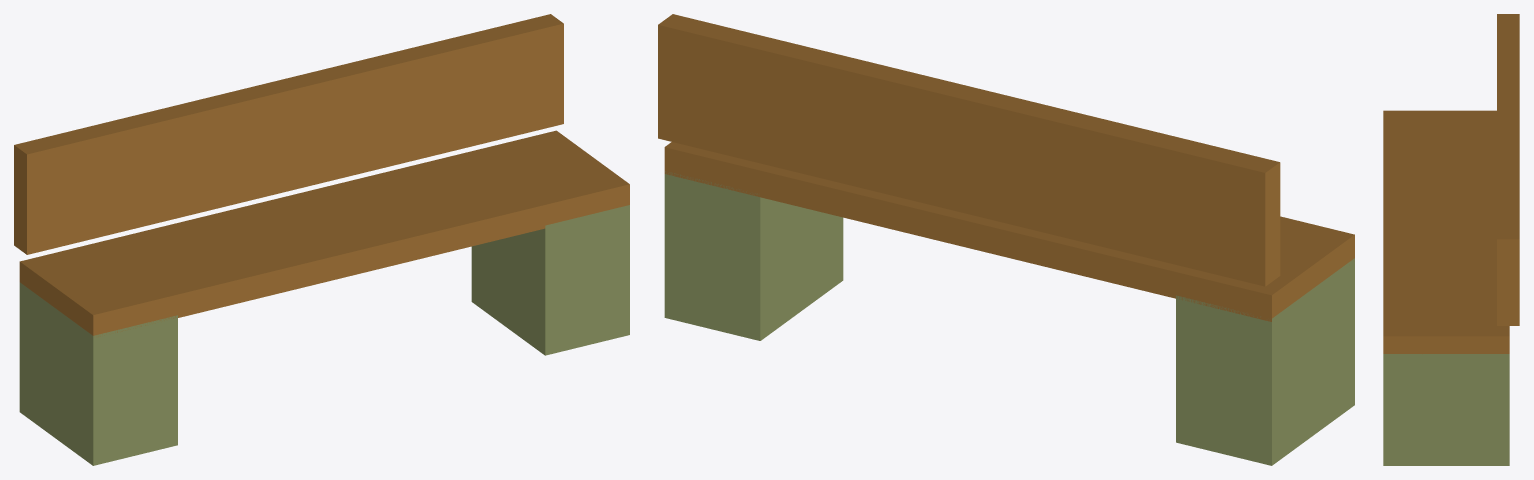
File: SM_KitSueltas_v0_LOD1.fbx
3 renders of one model, left to right at view 1: azimuth 30°, elevation 25°; view 2: azimuth 150°, elevation 25°; view 3: azimuth 270°, elevation 25°, orthographic. The views are drawn at different scales.
Visible parts, largest first — view 1: SM_bloques.kit_sueltas_v0_LOD1; view 2: SM_bloques.kit_sueltas_v0_LOD1; view 3: SM_bloques.kit_sueltas_v0_LOD1.
Part boxes in pixels (<box>): SM_bloques.kit_sueltas_v0_LOD1: <box>14,14,629,465</box>; SM_bloques.kit_sueltas_v0_LOD1: <box>658,14,1354,465</box>; SM_bloques.kit_sueltas_v0_LOD1: <box>1383,14,1519,465</box>.
Size of the model in its own units: 1.9 by 0.89 by 0.485.
